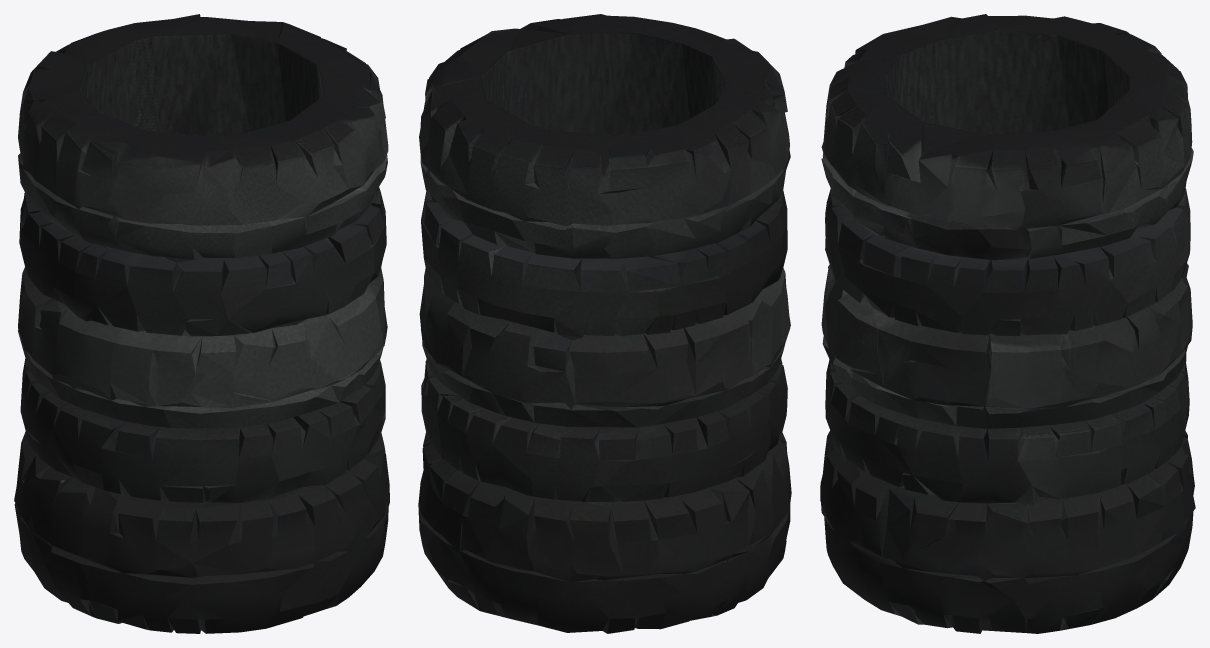
Rendered from tyre-stack.glb.
3 views of the same model, side by side, from view 1: azimuth 30°, elevation 25°; view 2: azimuth 150°, elevation 25°; view 3: azimuth 270°, elevation 25° (orthographic).
Size of the model in its own units: 1.34 by 1.9 by 1.34.
1 material, 1 textured.
